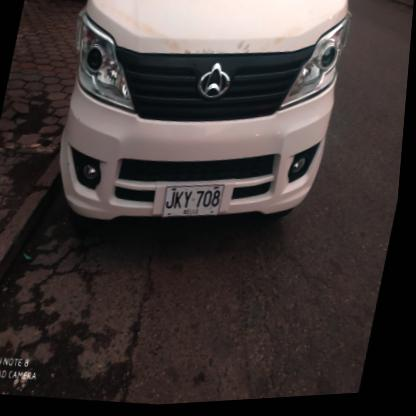placa: (161, 178, 233, 231)
